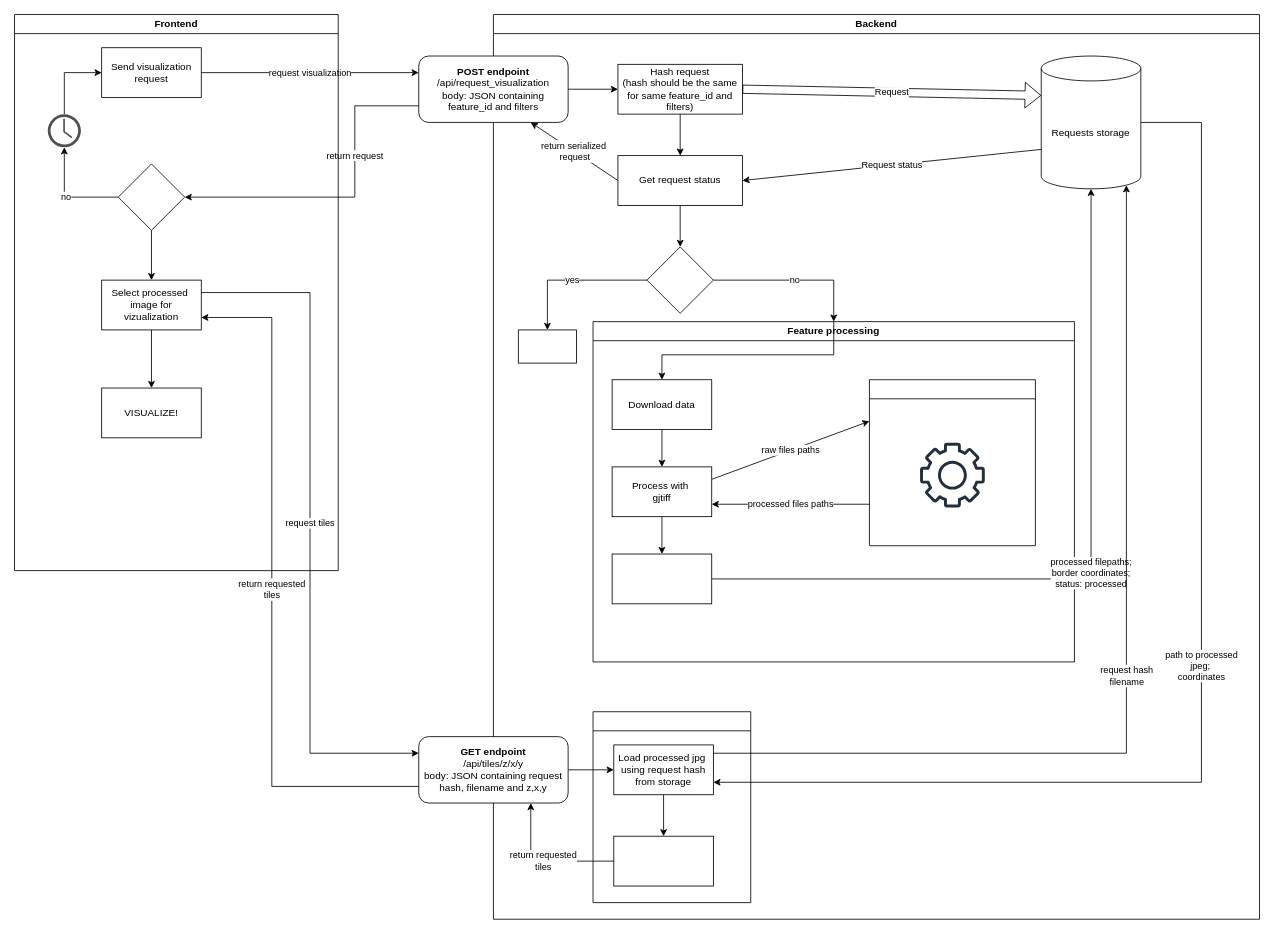
The diagram is 1274 pixels wide and 934 high, and some of its shapes have lost their labels. The box of each missing label's shape, as (x1, y1, x2, y2) in pixels:
Extract requested tiles: (613, 835, 713, 886)
gjtiff: (869, 379, 1035, 546)
is request processed: (117, 163, 185, 230)
is request processed?: (646, 246, 713, 313)
return: (518, 329, 576, 363)
Save paths to storage; mark as processed: (611, 553, 712, 604)
Tile processing: (592, 711, 751, 903)
